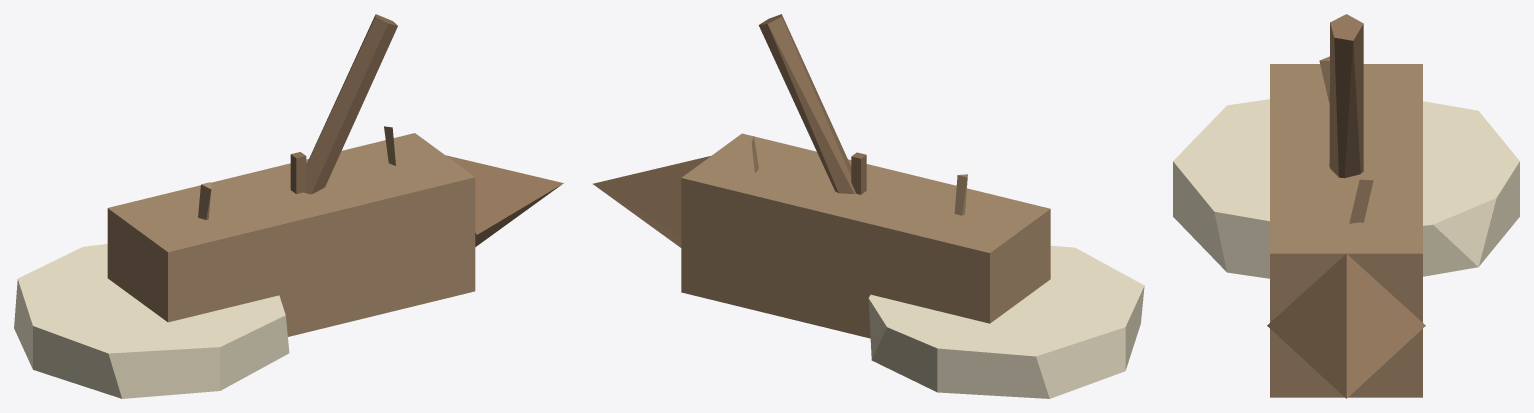
The model's file is 45-Arte3D_barco_hundido.glb.
3 views of the same model, side by side, from view 1: azimuth 30°, elevation 25°; view 2: azimuth 150°, elevation 25°; view 3: azimuth 270°, elevation 25° (orthographic). The views are drawn at different scales.
Visible parts, largest first — view 1: SM_Barco_M_Barco_Madera, SM_Barco_M_Arena_Isla, SM_Barco_M_Barco_Madera_Osc; view 2: SM_Barco_M_Barco_Madera, SM_Barco_M_Arena_Isla, SM_Barco_M_Barco_Madera_Osc; view 3: SM_Barco_M_Barco_Madera, SM_Barco_M_Arena_Isla, SM_Barco_M_Barco_Madera_Osc.
Part boxes in pixels (<box>): SM_Barco_M_Barco_Madera: <box>107,126,475,336</box>; SM_Barco_M_Arena_Isla: <box>14,244,289,398</box>; SM_Barco_M_Barco_Madera_Osc: <box>290,14,563,246</box>; SM_Barco_M_Barco_Madera: <box>681,133,1050,338</box>; SM_Barco_M_Arena_Isla: <box>868,245,1144,398</box>; SM_Barco_M_Barco_Madera_Osc: <box>592,14,866,247</box>; SM_Barco_M_Barco_Madera: <box>1270,56,1422,397</box>; SM_Barco_M_Arena_Isla: <box>1173,99,1519,278</box>; SM_Barco_M_Barco_Madera_Osc: <box>1267,14,1425,398</box>.
Bounding box in the file's own units: 3.8 × 1.84 × 1.7.
